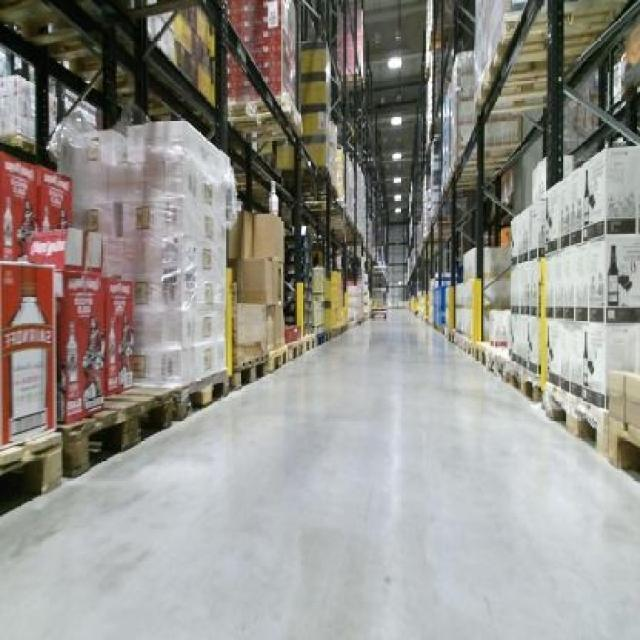floor: (0, 309, 637, 637)
